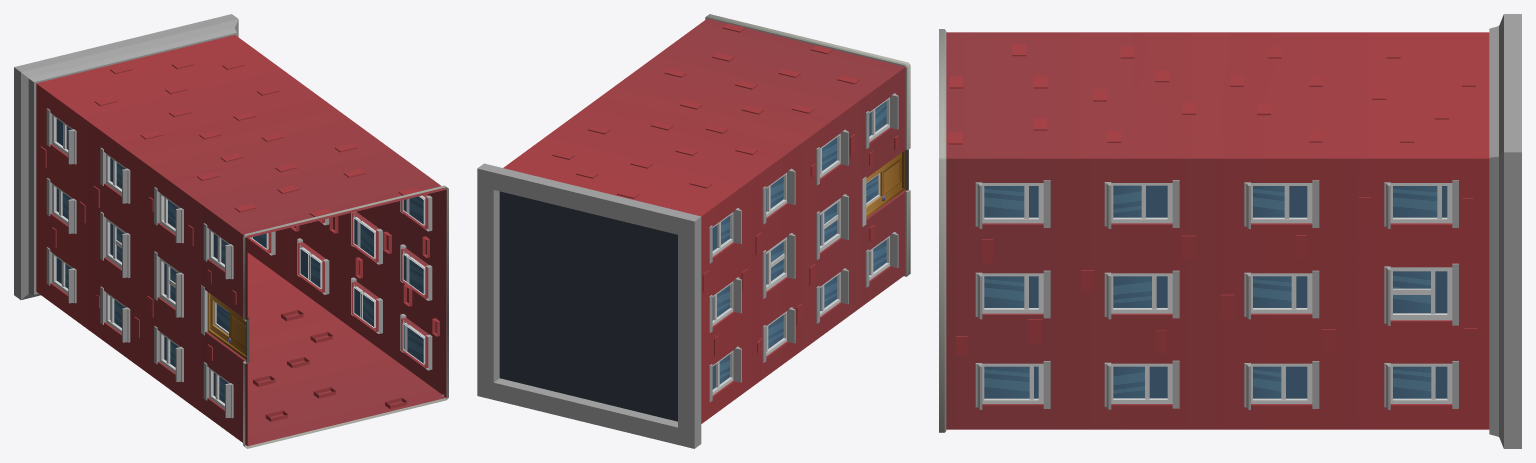
The model's file is Building_2_5_J.glb.
3 views of the same model, side by side, from view 1: azimuth 30°, elevation 25°; view 2: azimuth 150°, elevation 25°; view 3: azimuth 270°, elevation 25° (orthographic). The views are drawn at different scales.
Visible parts, largest first — view 1: Building_2_5_J; view 2: Building_2_5_J; view 3: Building_2_5_J.
Part boxes in pixels (x1,y1,x2,y2): Building_2_5_J: (14,14,448,448); Building_2_5_J: (477,14,910,448); Building_2_5_J: (939,14,1521,448).
Bounding box in the file's own units: 6.2 × 6.2 × 11.05.
3 materials, 3 textured.
